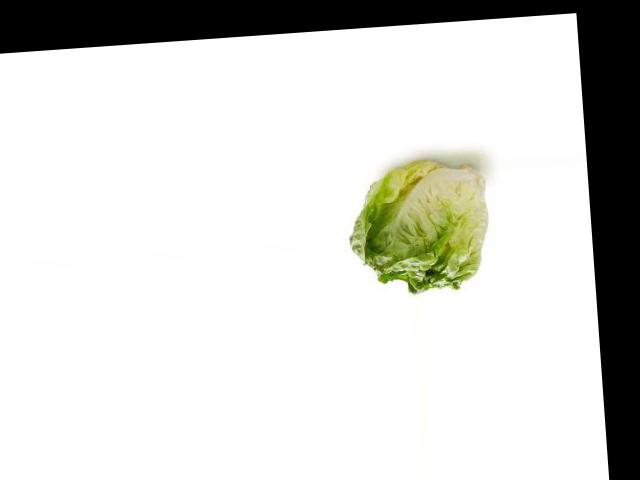lettuce: (363, 164, 525, 306)
